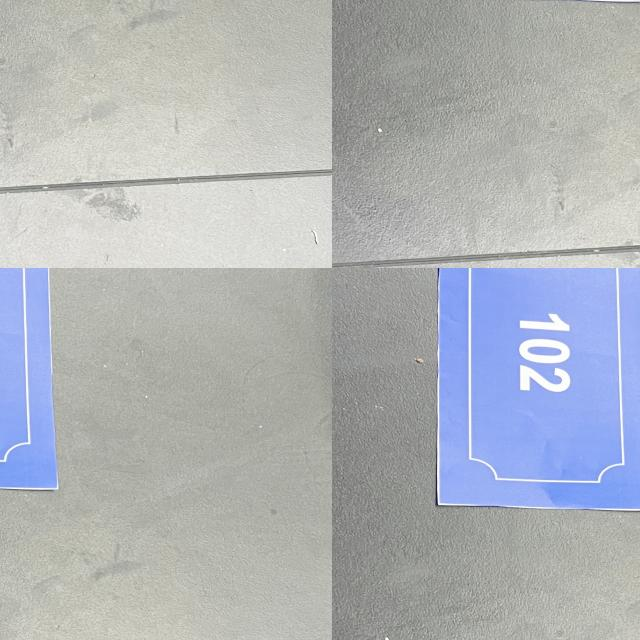Card: (0, 268, 332, 640), (0, 0, 264, 258), (403, 268, 640, 525)
